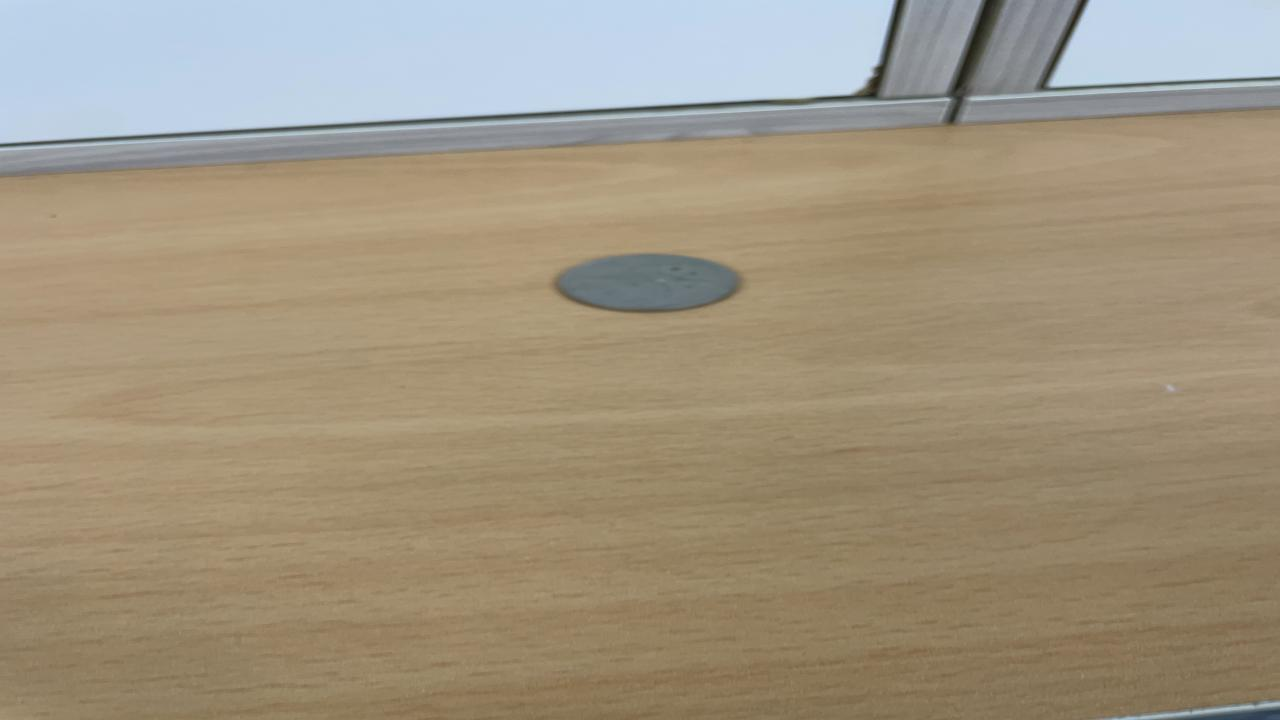coin: (550, 250, 746, 314)
